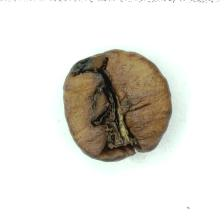NG: (66, 57, 147, 147)
